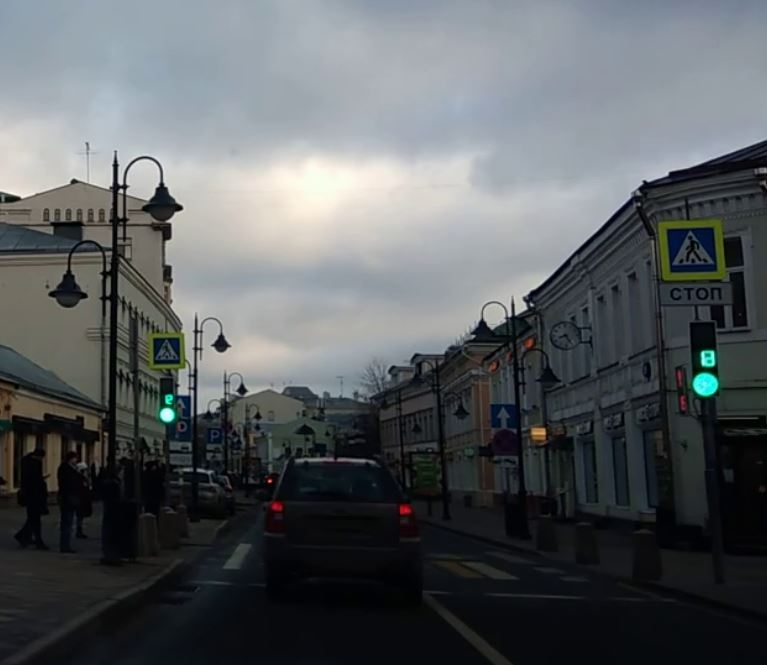Yaya Gecidi: (667, 227, 719, 273), (154, 337, 181, 366)
